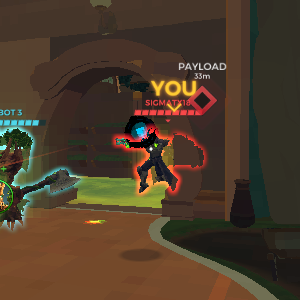model: (118, 123, 172, 196)
